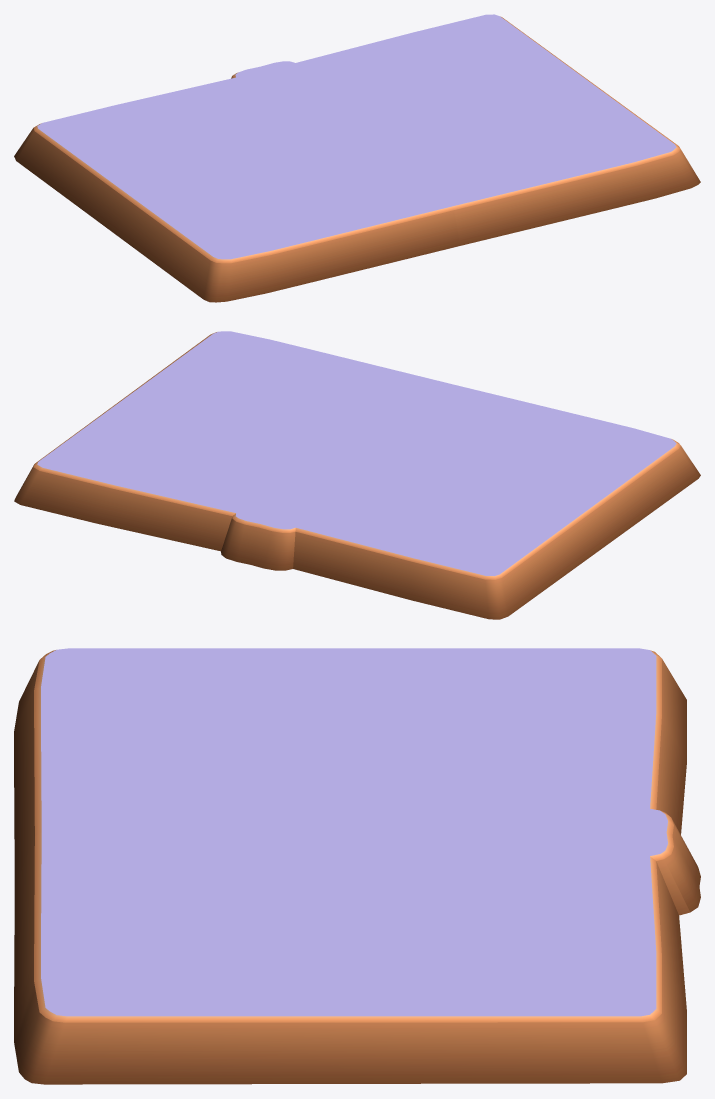
The model's file is HUB_floor_scaled_v02.fbx.
3 views of the same model, one above another, from view 1: azimuth 30°, elevation 25°; view 2: azimuth 150°, elevation 25°; view 3: azimuth 270°, elevation 25° (orthographic). The views are drawn at different scales.
Visible parts, largest first — view 1: HUB_floor_v03; view 2: HUB_floor_v03; view 3: HUB_floor_v03.
Boxes of the visible parts, left/top/right/bottom form: HUB_floor_v03: left=14, top=14, right=700, bottom=302; HUB_floor_v03: left=14, top=331, right=700, bottom=619; HUB_floor_v03: left=14, top=648, right=700, bottom=1084.
Size of the model in its own units: 9988 by 645 by 7343.
